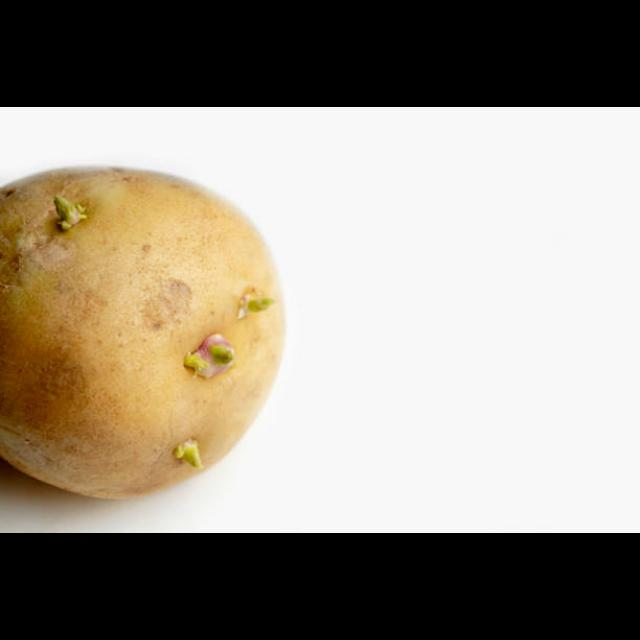Sprouted potato: (0, 152, 292, 508)
